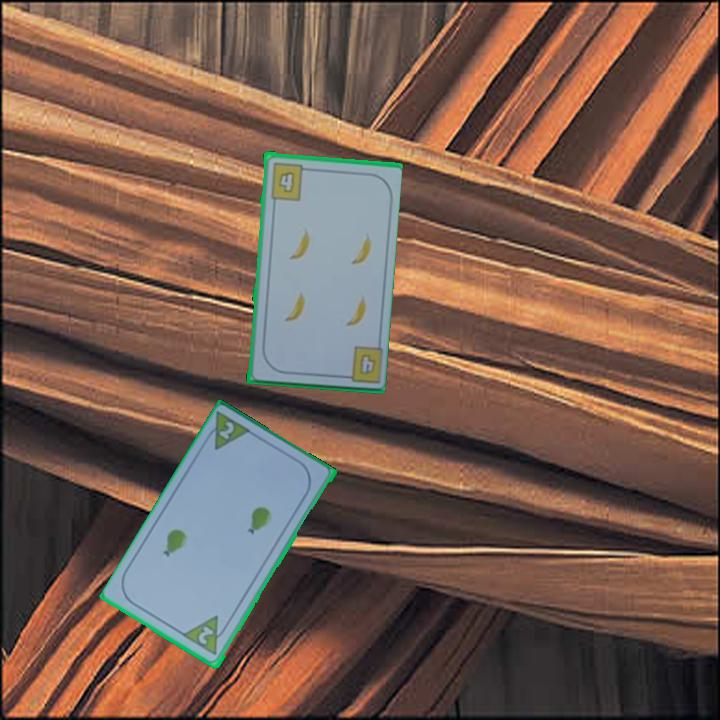2p: (200, 409, 255, 454), (195, 623, 217, 648)
4b: (337, 342, 383, 386), (266, 158, 311, 202)
